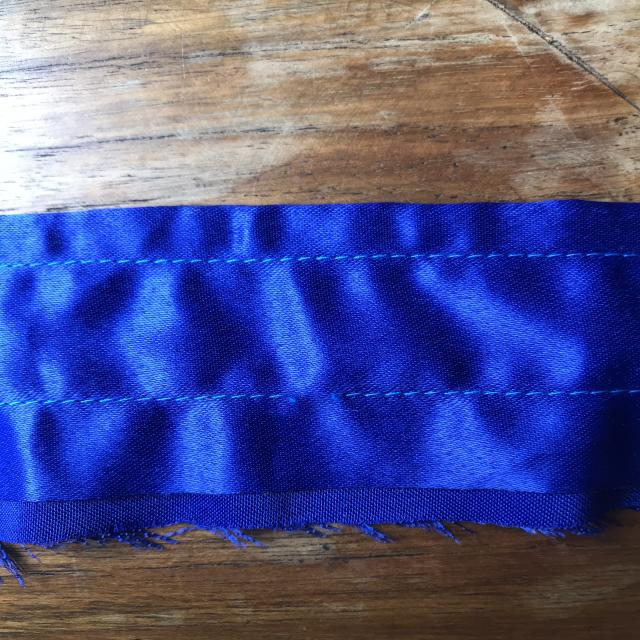broken: (269, 367, 379, 424)
good: (199, 246, 421, 278)
